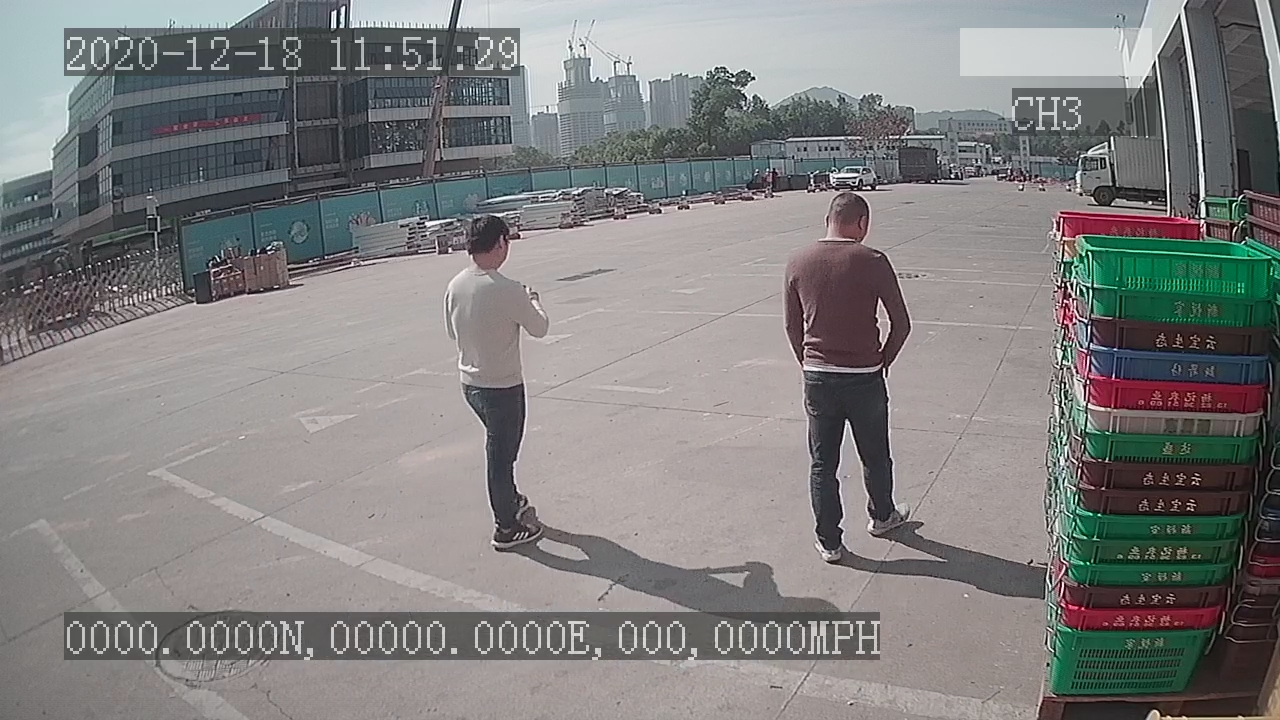person: (777, 188, 917, 567), (436, 210, 556, 558)
